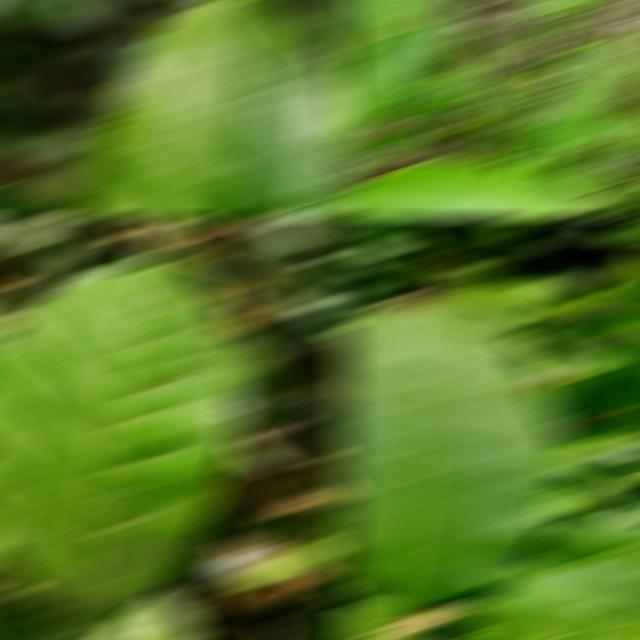Leaf: (0, 255, 244, 638), (336, 285, 568, 606), (76, 2, 354, 214), (520, 28, 634, 150), (337, 163, 598, 214), (530, 505, 640, 613), (350, 21, 463, 123), (220, 329, 298, 470), (207, 512, 354, 585), (223, 243, 354, 322), (544, 250, 640, 336), (1, 220, 99, 283), (450, 606, 640, 638), (270, 280, 345, 355), (92, 591, 205, 638), (477, 75, 542, 156), (580, 338, 640, 412), (270, 586, 354, 638), (389, 74, 481, 114), (336, 2, 403, 56), (515, 118, 577, 175), (336, 59, 381, 133), (0, 82, 57, 130), (245, 220, 334, 250), (24, 129, 100, 163), (568, 147, 632, 187), (356, 133, 424, 164), (572, 108, 626, 142), (463, 47, 507, 80), (437, 115, 490, 136), (520, 2, 610, 14), (527, 18, 574, 37), (408, 2, 460, 18), (553, 43, 604, 55)
